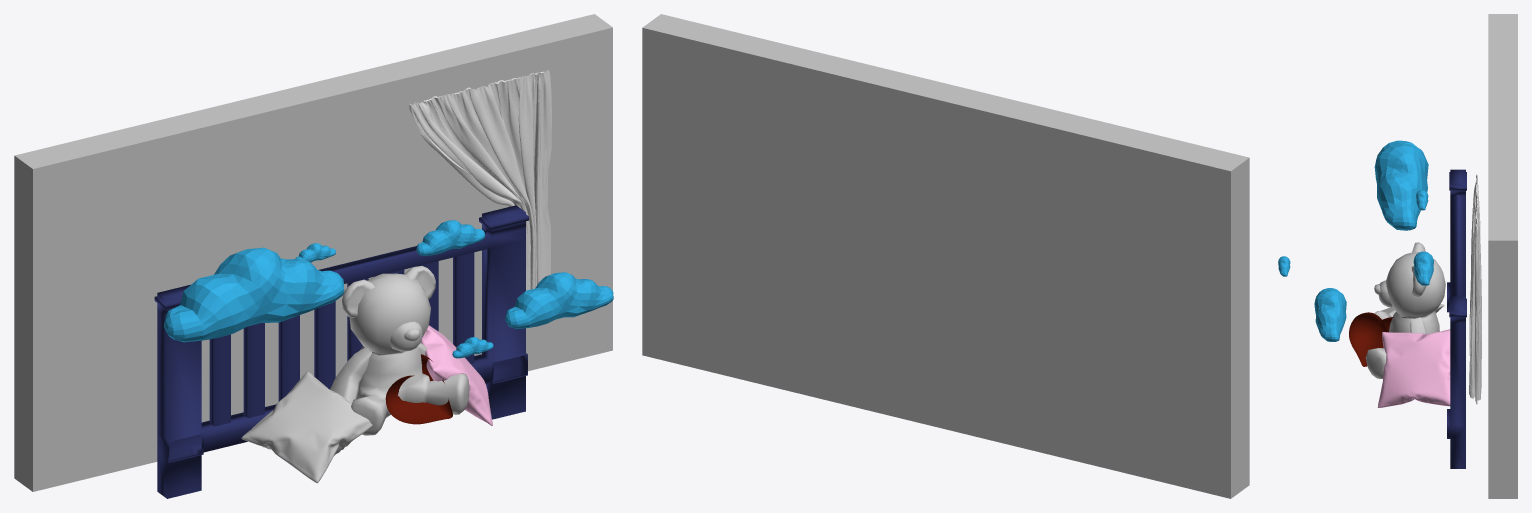
The model's file is Escena.fbx.
The picture shows the model from 3 angles, left to right: view 1: azimuth 30°, elevation 25°; view 2: azimuth 150°, elevation 25°; view 3: azimuth 270°, elevation 25°; orthographic projection. The views are drawn at different scales.
Parts seen in each view (by area): view 1: Cube, Atras-Cama, mesh_id4, Oso_Low, cloud, Plane, cloud.001, Plane.001, Cube.001, cloud.004; view 2: Cube; view 3: Cube, Atras-Cama, Plane.001, Oso_Low, cloud, mesh_id4, cloud.001, Cube.001, cloud.004.
Boxes of the visible parts, box(x1,y1,x2,y2) form: Cube: box(14, 14, 612, 491); Atras-Cama: box(154, 205, 528, 498); mesh_id4: box(409, 70, 551, 290); Oso_Low: box(330, 266, 469, 435); cloud: box(164, 247, 344, 342); Plane: box(241, 371, 372, 483); cloud.001: box(505, 272, 613, 328); Plane.001: box(420, 325, 492, 425); Cube.001: box(385, 354, 452, 424); cloud.004: box(416, 220, 484, 255); Cube: box(642, 14, 1249, 498); Cube: box(1488, 14, 1517, 498); Atras-Cama: box(1447, 169, 1466, 468); Plane.001: box(1377, 329, 1450, 407); Oso_Low: box(1365, 242, 1445, 378); cloud: box(1374, 140, 1428, 230); mesh_id4: box(1469, 174, 1481, 404); cloud.001: box(1314, 288, 1346, 341); Cube.001: box(1349, 312, 1393, 366); cloud.004: box(1413, 251, 1433, 285).
Bounding box in the file's own units: 788 × 441 × 353.
